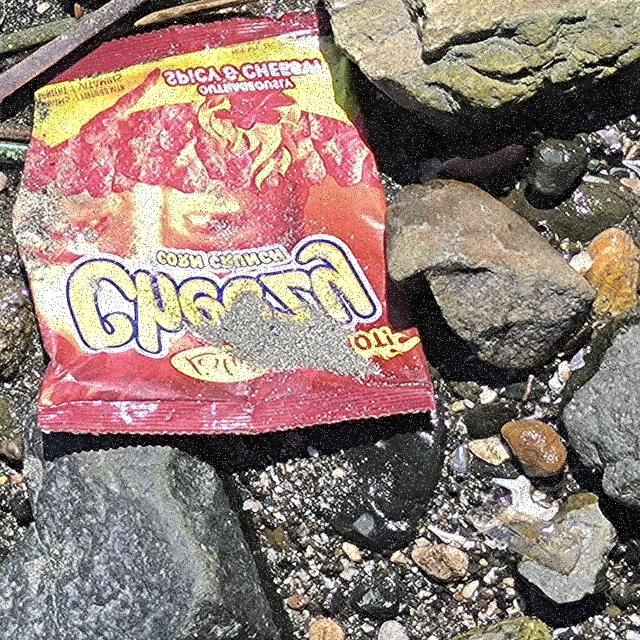plastic_waste: (10, 6, 441, 440)
